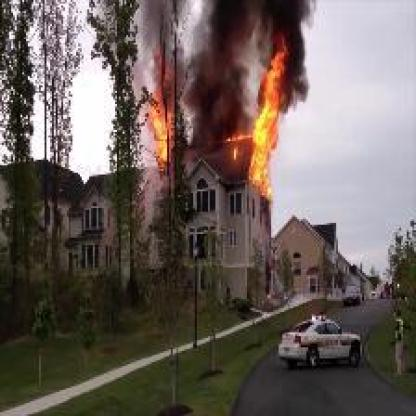fire: (244, 51, 291, 195), (136, 48, 188, 168)
smoke: (188, 0, 246, 150), (134, 0, 188, 78), (249, 0, 310, 54)
